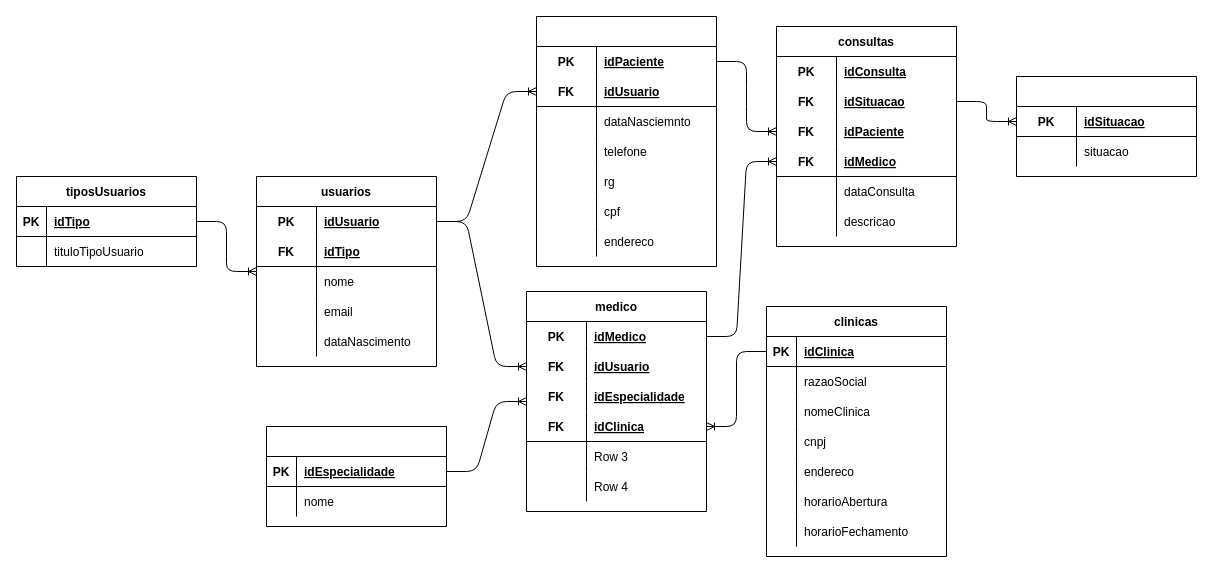
The diagram is 1213 pixels wide and 573 high, and some of its shapes have lost their labels. Each missing label, with the box of its shape:
especialidades: (266, 426, 446, 526)
pacientes: (536, 16, 716, 266)
situacoes: (1016, 76, 1196, 176)
